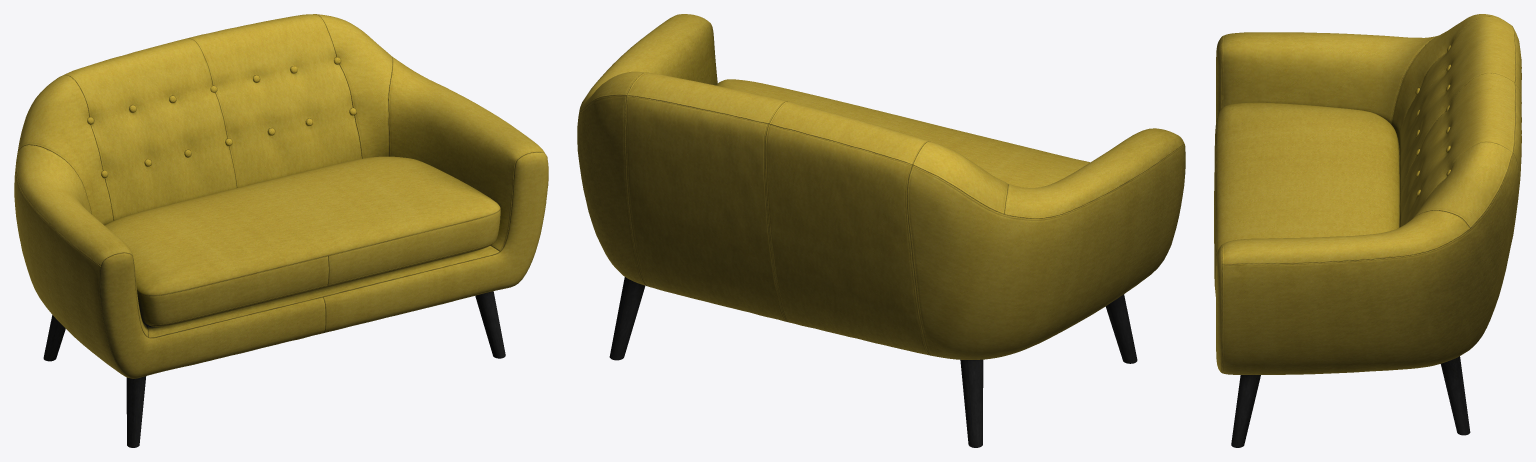
File: sofa.glb
The picture shows the model from 3 angles, left to right: view 1: azimuth 30°, elevation 25°; view 2: azimuth 150°, elevation 25°; view 3: azimuth 270°, elevation 25°; orthographic projection. The views are drawn at different scales.
Visible parts, largest first — view 1: FABRIC, BLACK, BUTTONS; view 2: FABRIC, BLACK; view 3: FABRIC, BLACK.
Boxes of the visible parts, box(x1,y1,x2,y2) form: FABRIC: box(14, 14, 548, 378); BLACK: box(43, 291, 505, 447); BUTTONS: box(87, 57, 356, 177); FABRIC: box(577, 14, 1185, 359); BLACK: box(609, 277, 1137, 447); FABRIC: box(1214, 14, 1521, 374); BLACK: box(1231, 356, 1470, 447).
Size of what is drawn, in the model's own units: 149 by 85.71 by 85.45.
Materials: 3 (3 with a texture image).
